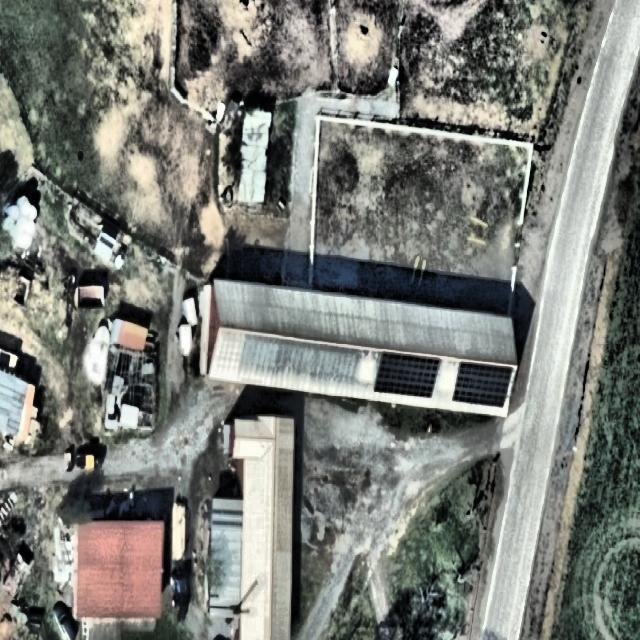roof_pv: (376, 352, 441, 402), (451, 361, 512, 412)
